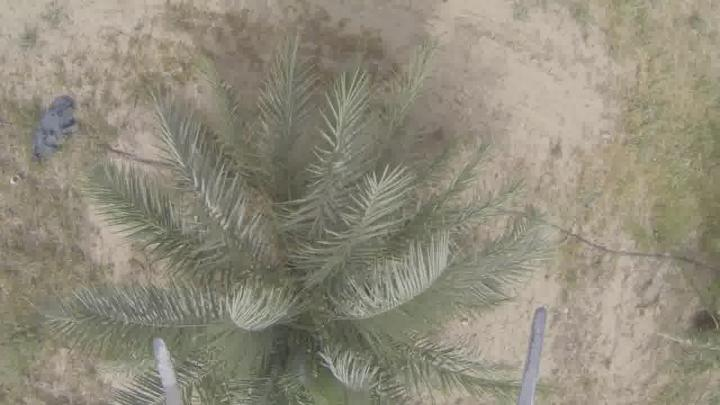Date-Palm-Crown: (174, 129, 430, 404)
